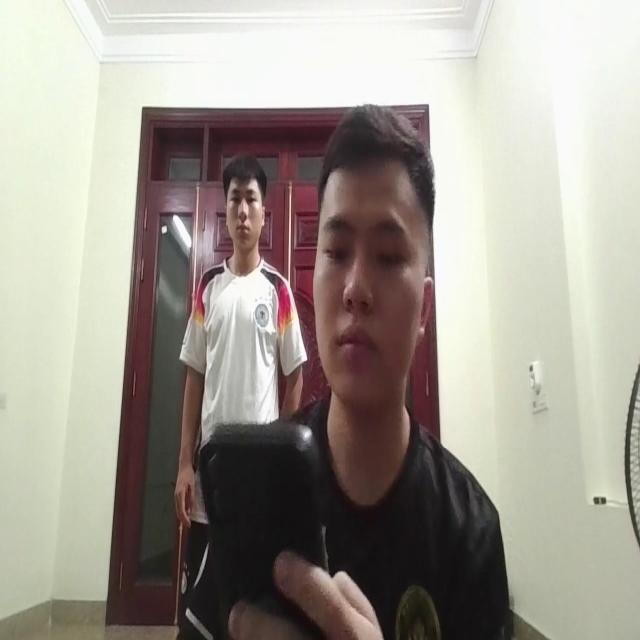extra_person: (179, 158, 291, 437)
phone: (196, 412, 330, 626)
student: (297, 97, 459, 640)
